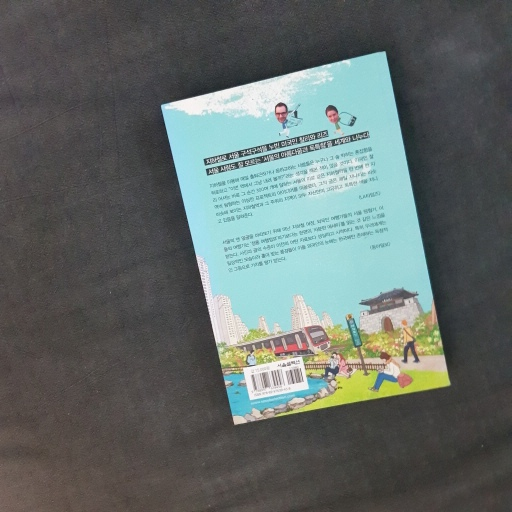Paper_0: (158, 48, 459, 428)
